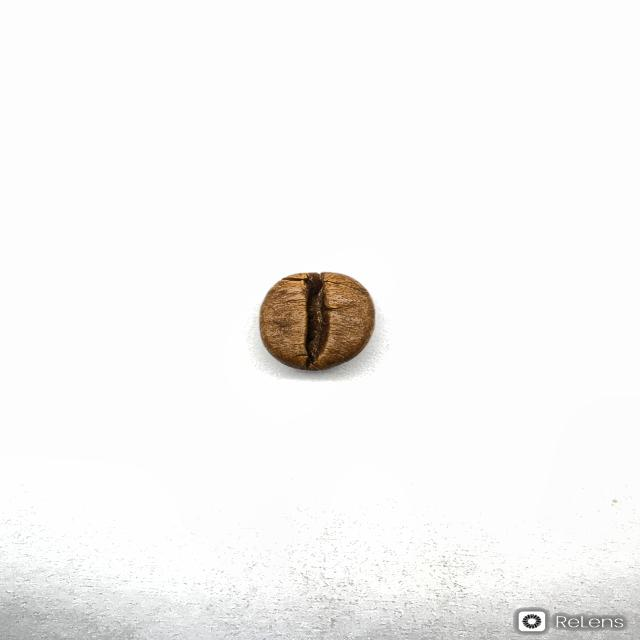Good bean: (258, 270, 376, 371)
